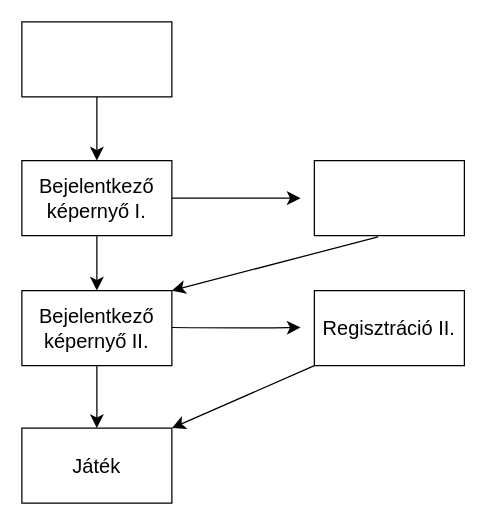
This 486x525 diagram has some shape labels left out. The box of each missing label's shape, as (x1, y1, x2, y2) in pixels:
Regisztráció I.: (313, 159, 464, 236)
Weboldal megnyitása: (21, 21, 172, 97)
